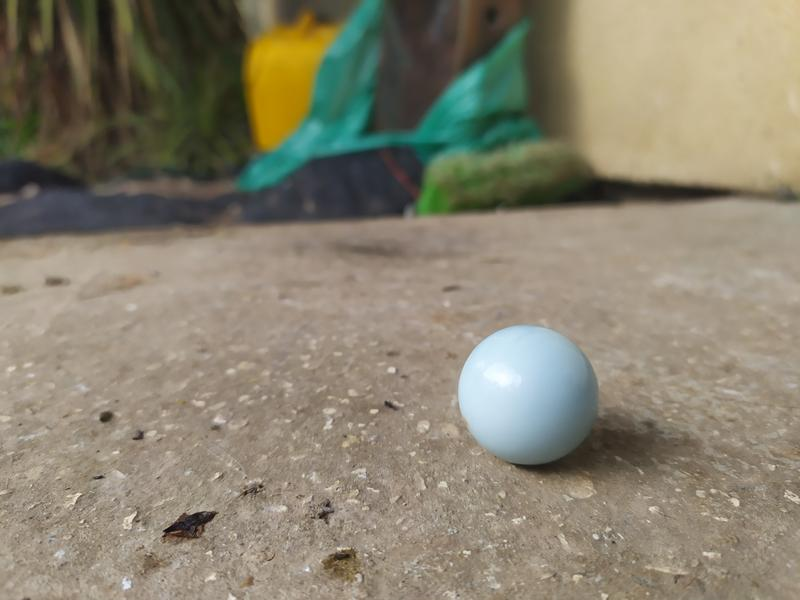Warning: (452, 320, 606, 470)
